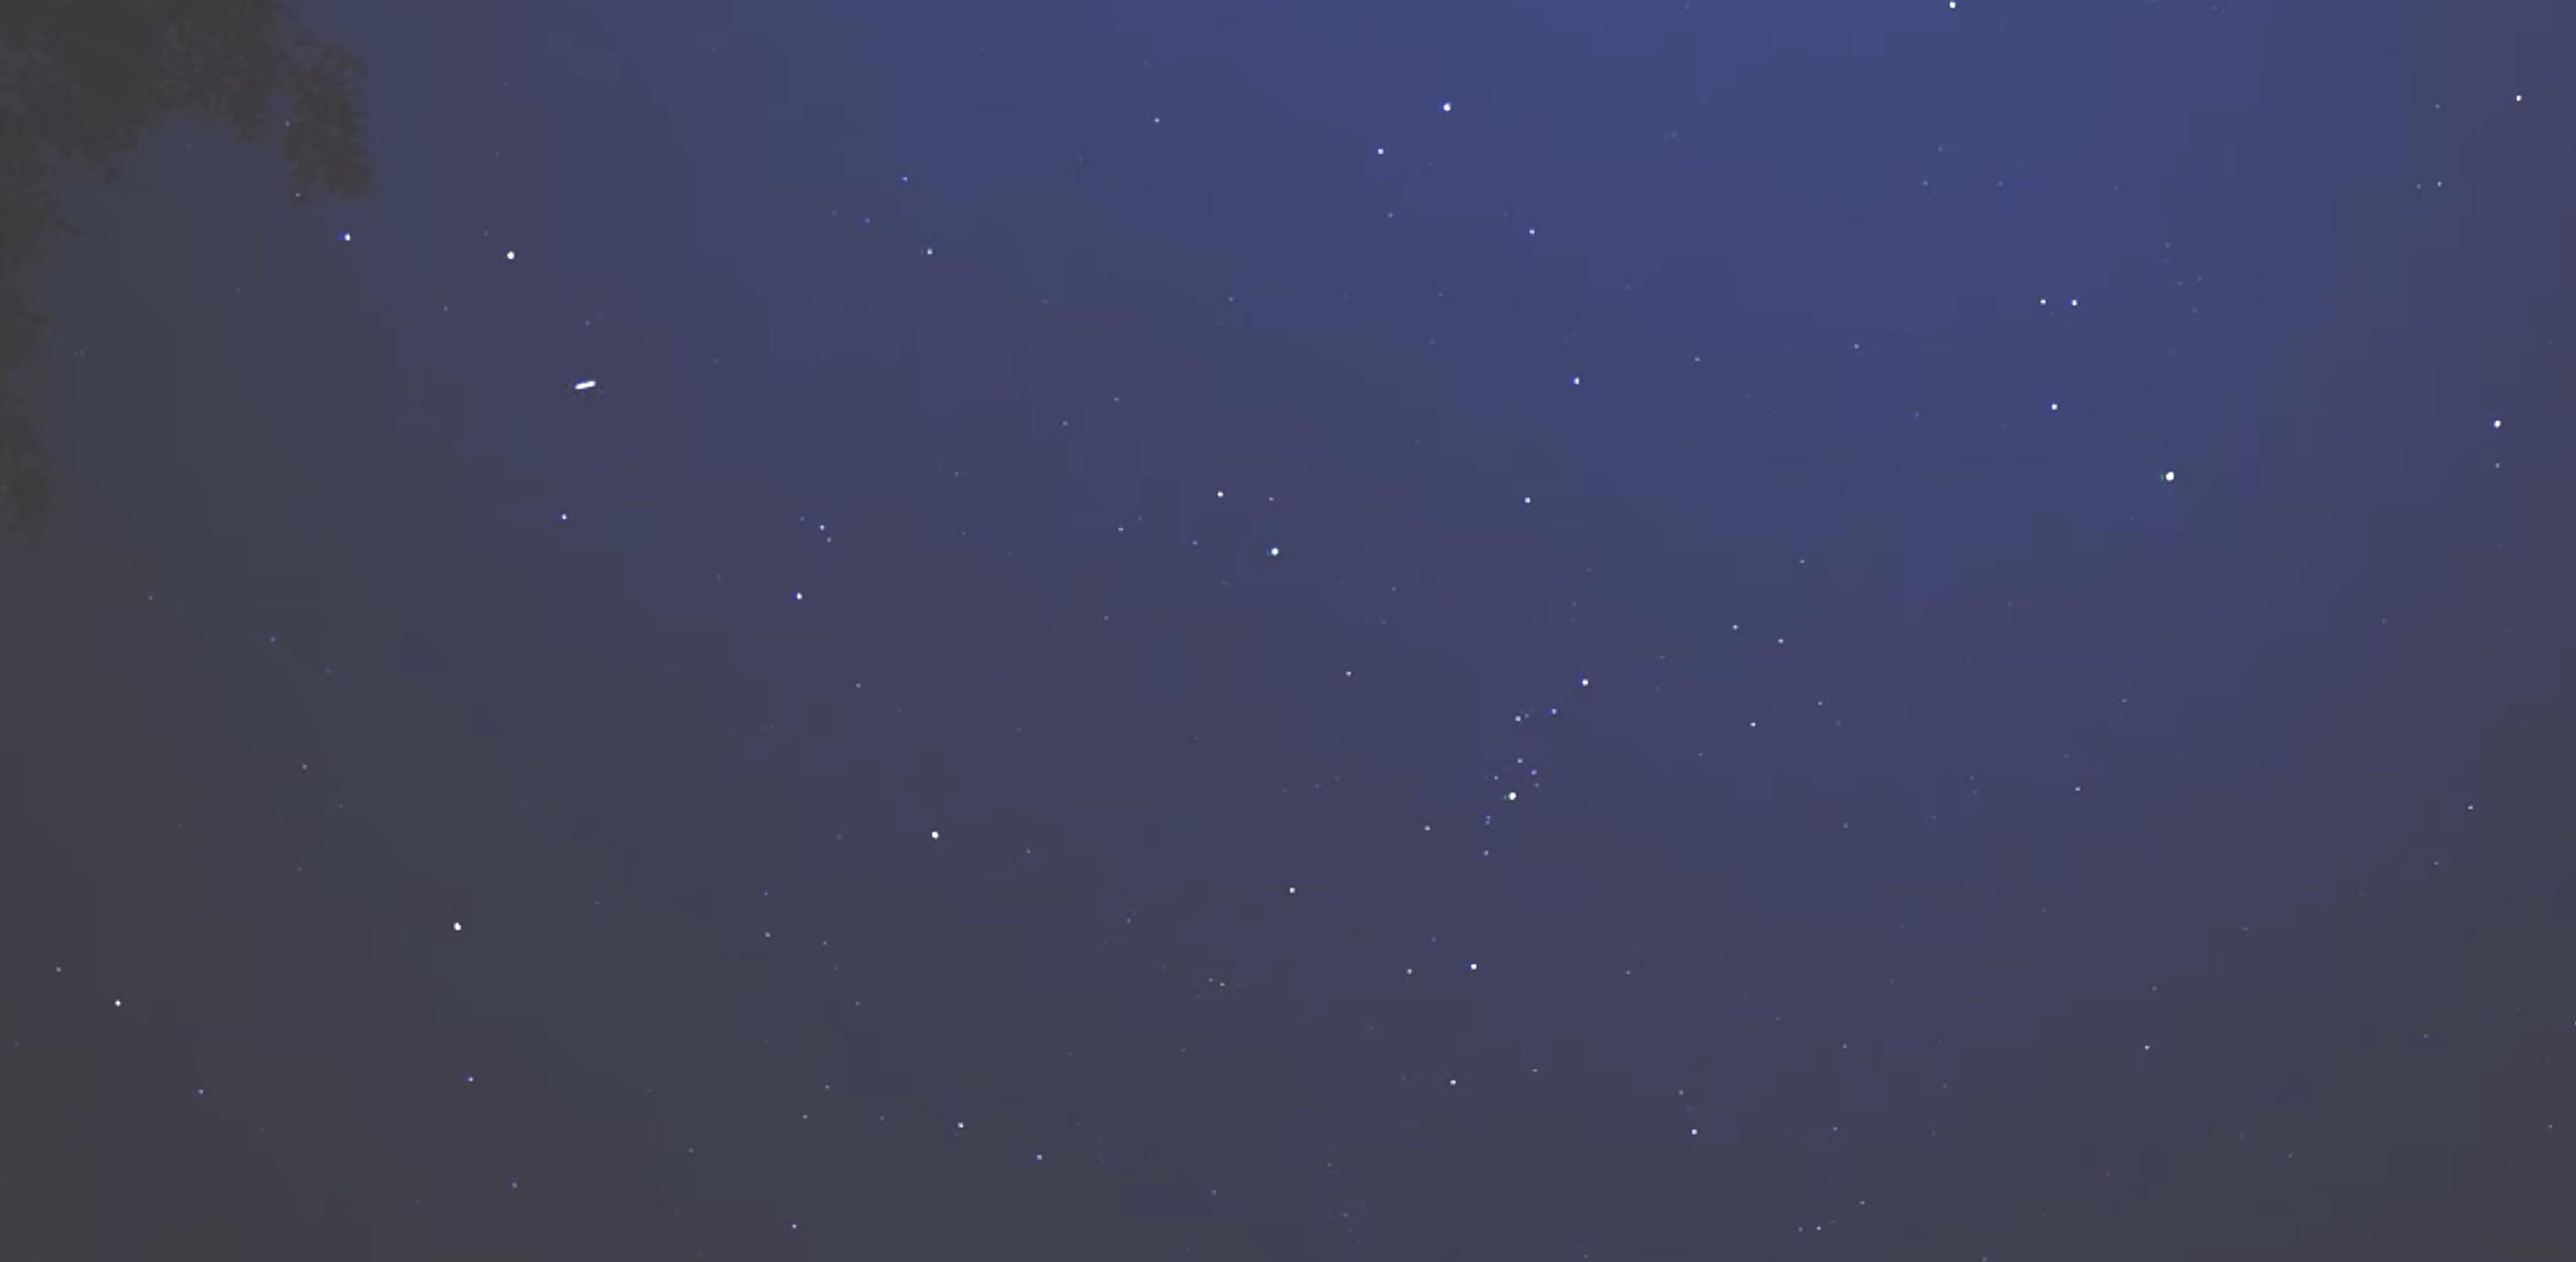meteorite: (552, 365, 621, 401)
